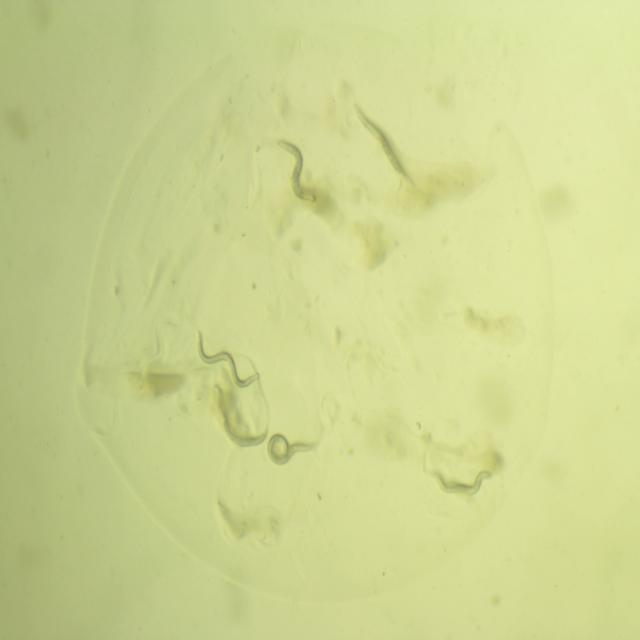worm: (345, 99, 421, 199), (191, 317, 266, 397), (263, 132, 326, 215), (207, 377, 271, 454), (425, 456, 493, 508), (262, 422, 328, 471)
